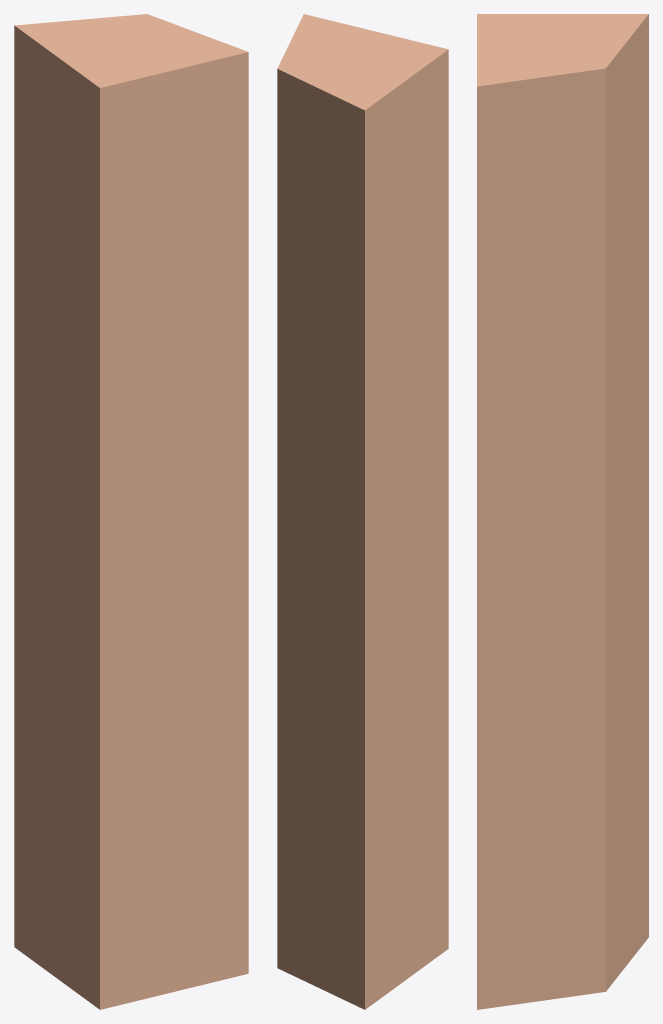
Rendered from cliff_corner_rock.glb.
3 renders of one model, left to right at view 1: azimuth 30°, elevation 25°; view 2: azimuth 150°, elevation 25°; view 3: azimuth 270°, elevation 25°, orthographic. The views are drawn at different scales.
Parts seen in each view (by area): view 1: cliff_corner_rock; view 2: cliff_corner_rock; view 3: cliff_corner_rock.
Part boxes in pixels (<box>): cliff_corner_rock: <box>14,14,248,1009</box>; cliff_corner_rock: <box>277,14,448,1009</box>; cliff_corner_rock: <box>477,14,648,1009</box>.
Bounding box in the file's own units: 0.2022 × 1.2 × 0.2022.
